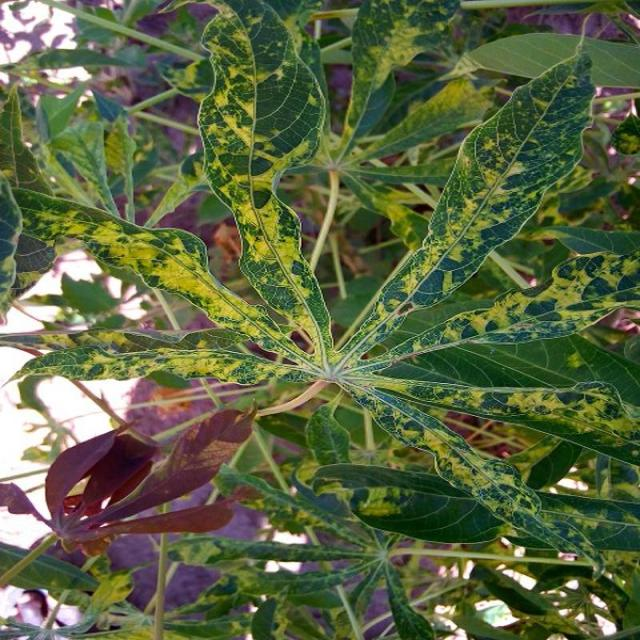cassava leaf: (4, 1, 639, 561)
